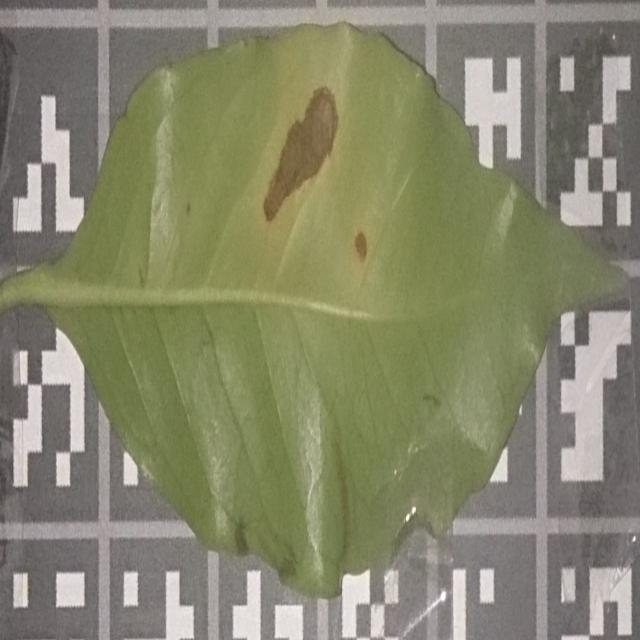Enfermedad-Mancha-de-hierro: (0, 23, 627, 601)
